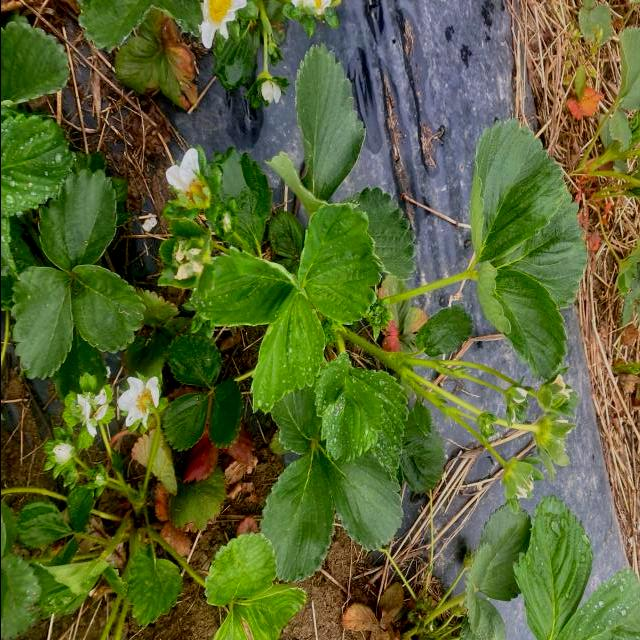flower: (113, 362, 163, 448), (190, 0, 252, 63), (166, 142, 218, 214)
